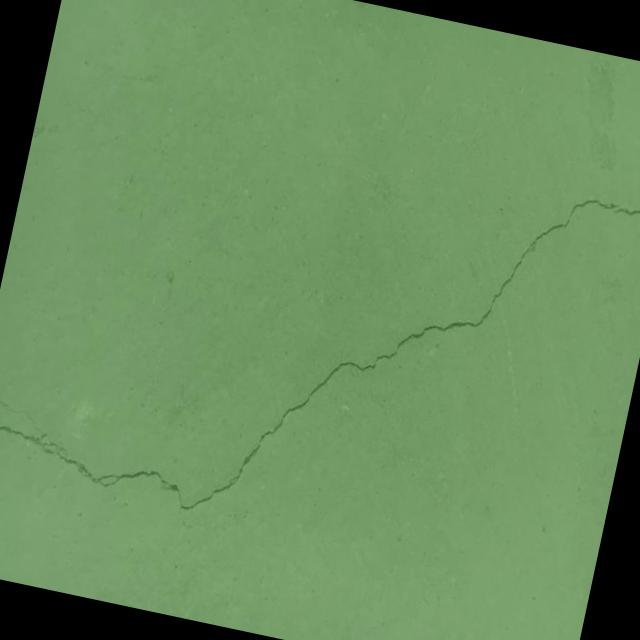crack: (0, 62, 640, 597)
